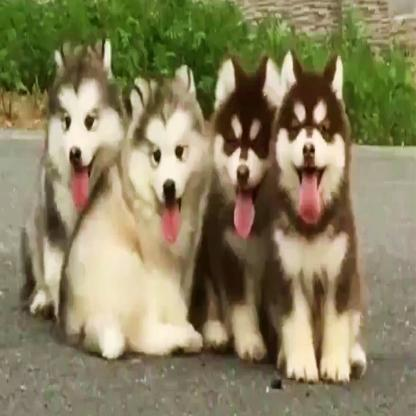dog: (61, 69, 211, 355), (269, 44, 365, 379), (22, 40, 127, 320), (191, 54, 280, 360)
